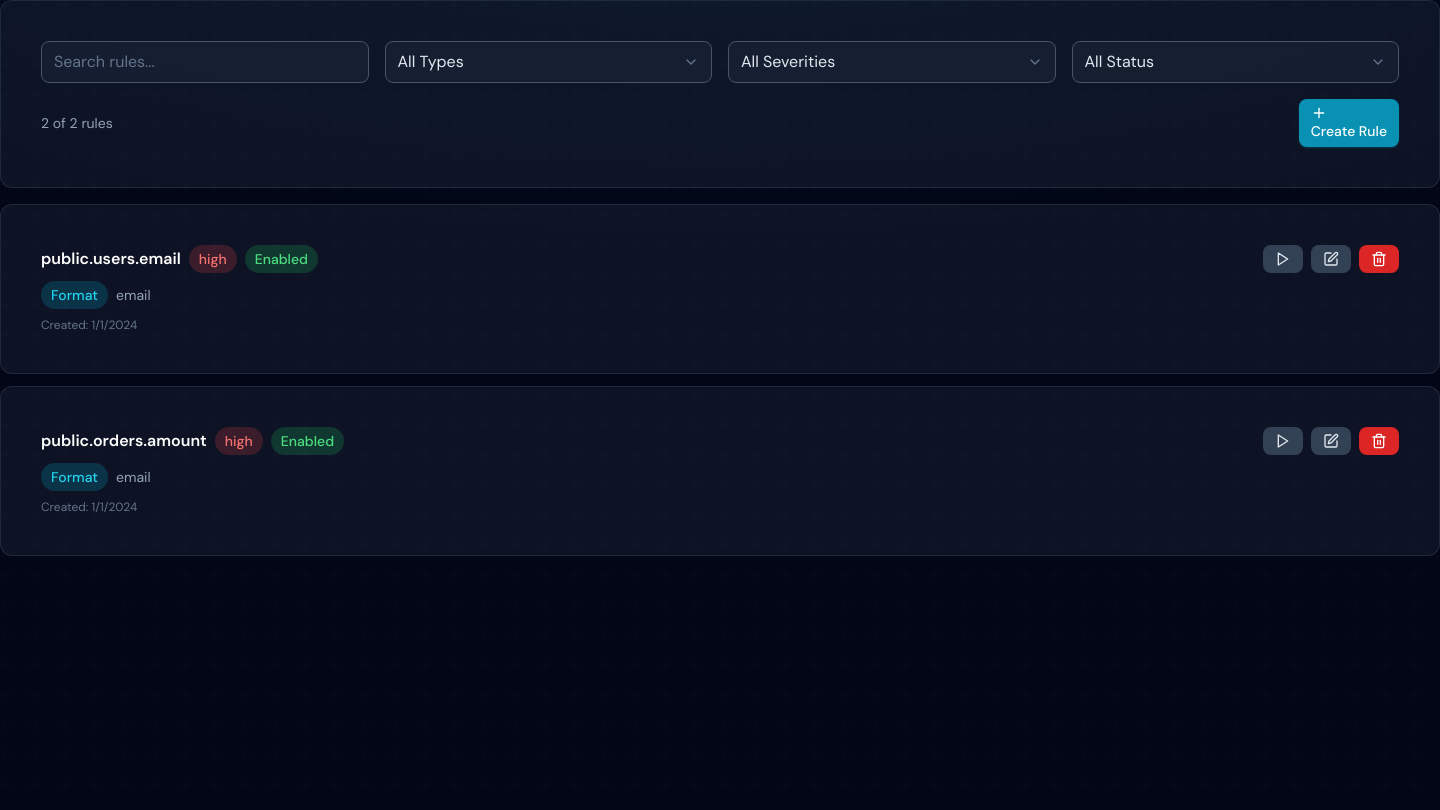
it: ValidationRulesList › filters rules by search query
Expected: the heading "public.users.email" is shown, [41, 247, 181, 271]
In the field with placeholder "Search rules...": (205, 62) [41, 41, 368, 83], type "orders"
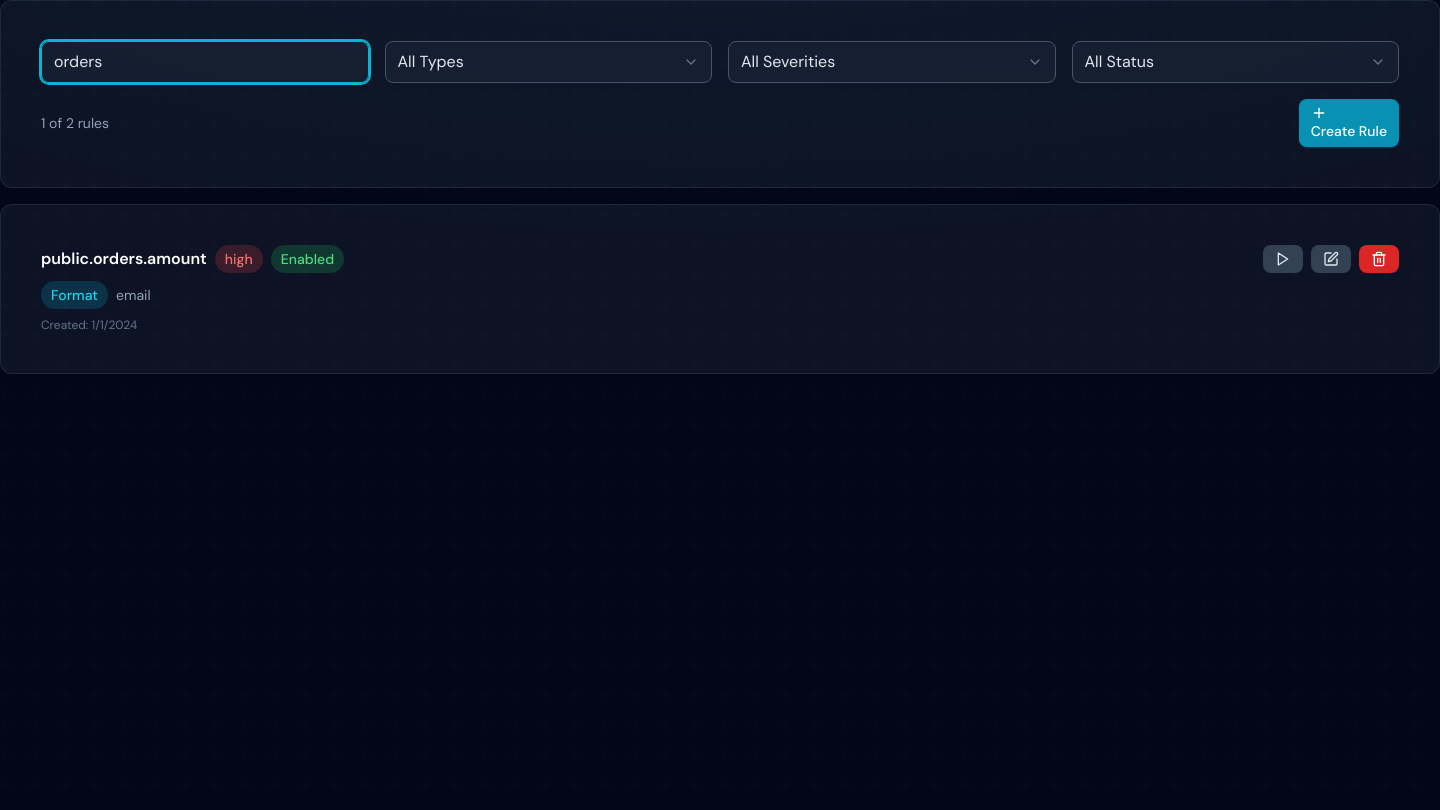
Expected: the heading "public.orders.amount" is shown, [41, 247, 207, 271]
Expected: the heading "public.users.email" is gone
